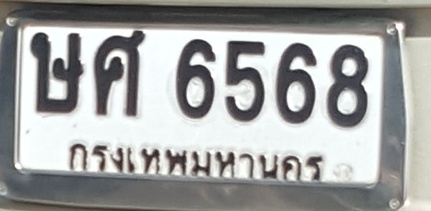txt33: (90, 27, 147, 120)
txt34: (27, 30, 86, 115)
